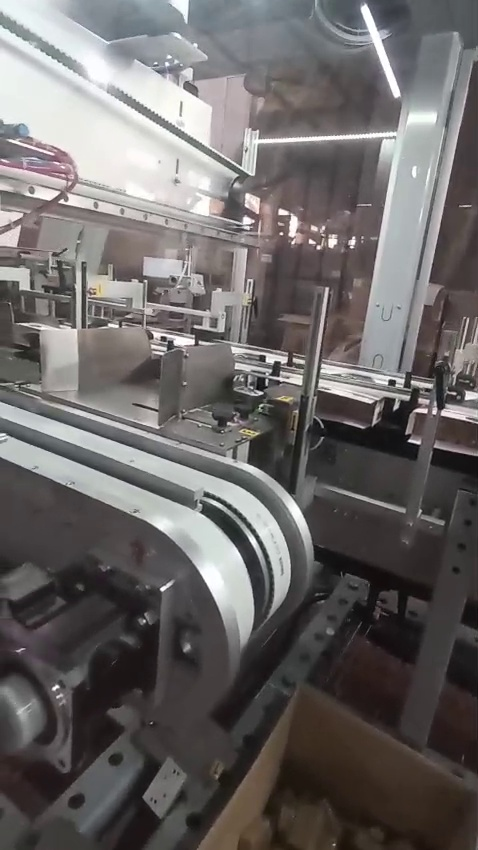savon: (192, 688, 478, 850), (278, 799, 342, 850), (355, 828, 384, 850), (204, 762, 230, 786), (449, 830, 478, 850), (284, 410, 299, 432), (240, 427, 262, 440), (91, 284, 104, 299), (274, 395, 293, 405)
